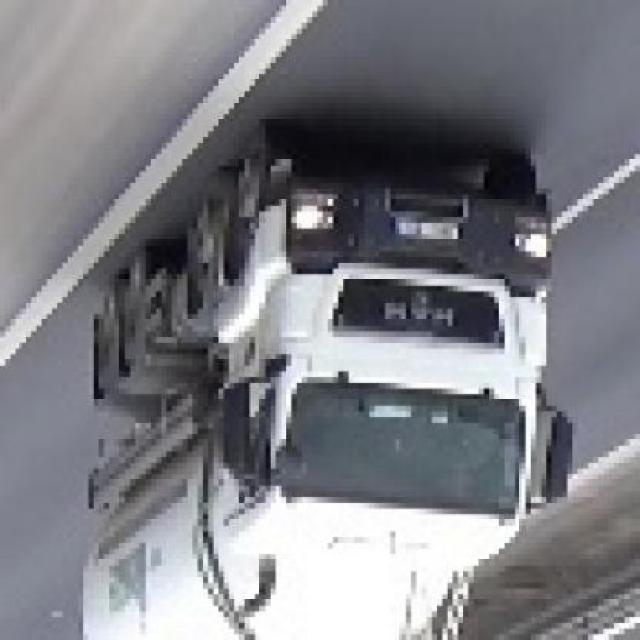truck: (84, 144, 573, 640)
